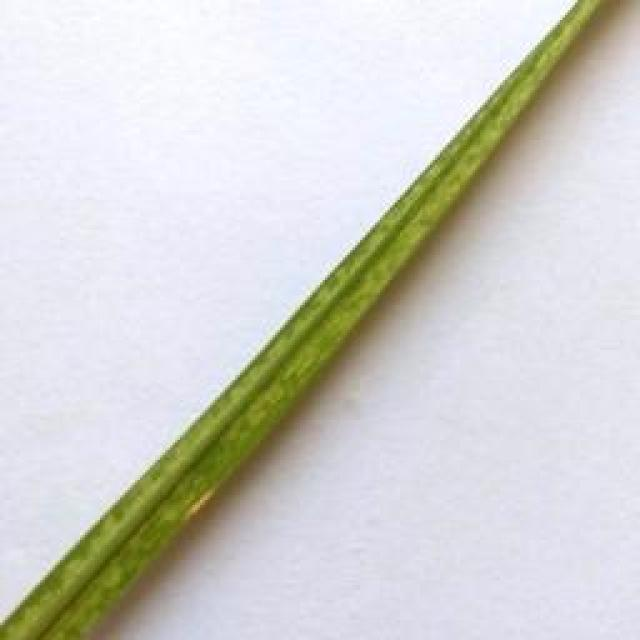Bacterial_Blight: (176, 465, 233, 530)
